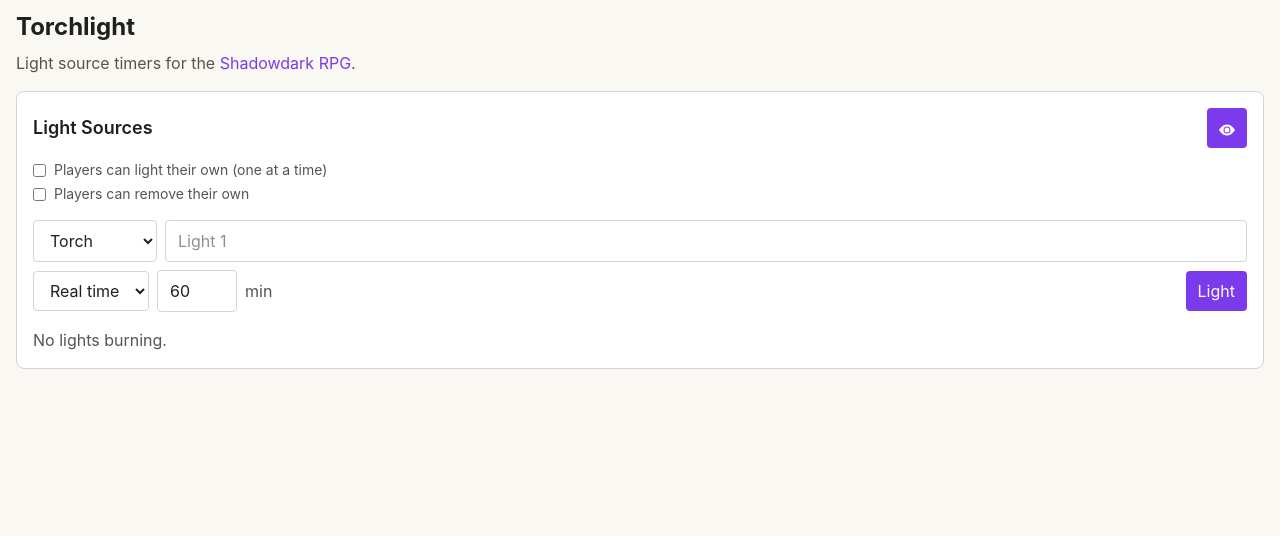
Test case: Main (Torchlight) › adds a named turn light with a custom count
The width and height of the screenshot is (1280, 536).
Type "Lantern" into the field named "Light name" at (706, 241), box x1=165 y1=220 x2=1247 y2=262
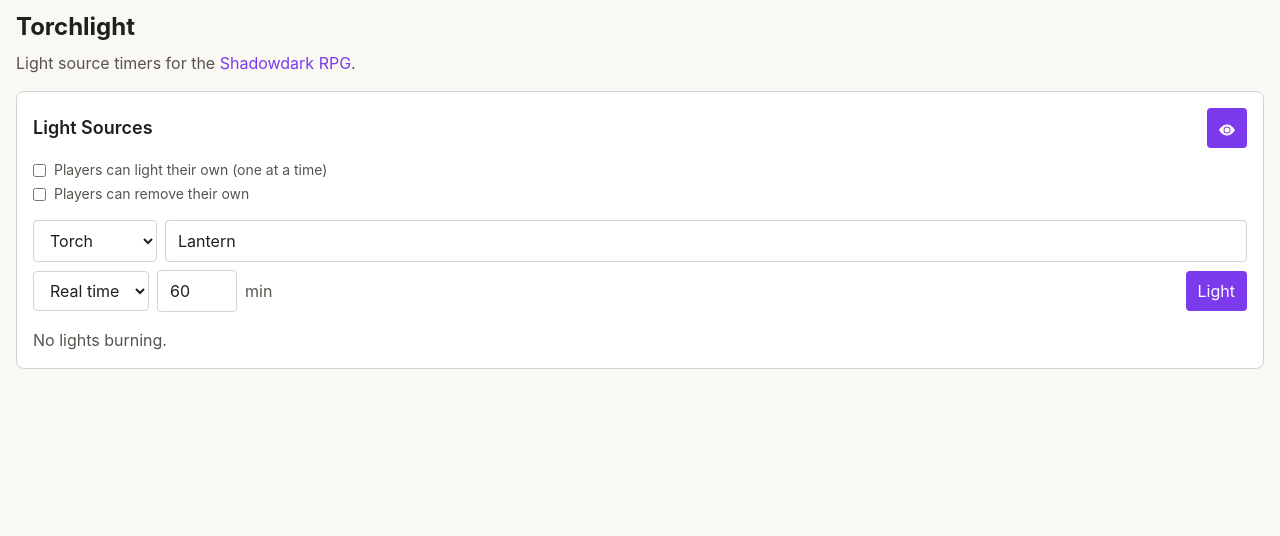
Select "Turns" in the dropdown named "Light type" at (91, 291), box x1=33 y1=271 x2=149 y2=311
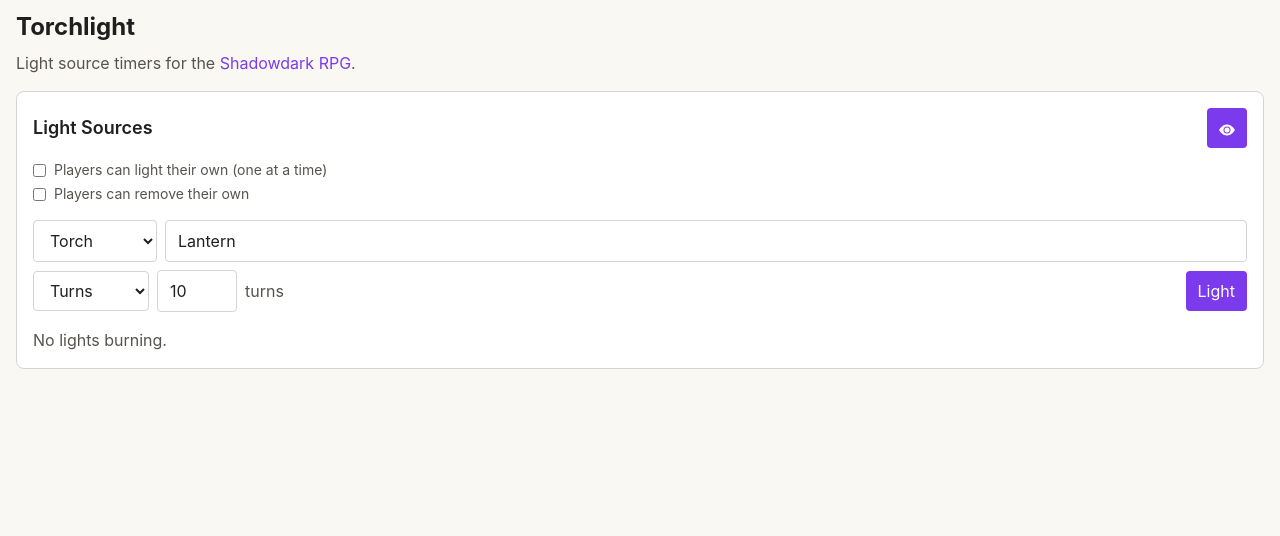
Replace the text in the number field named "Turns" with "6" at (197, 291), box x1=157 y1=270 x2=237 y2=312
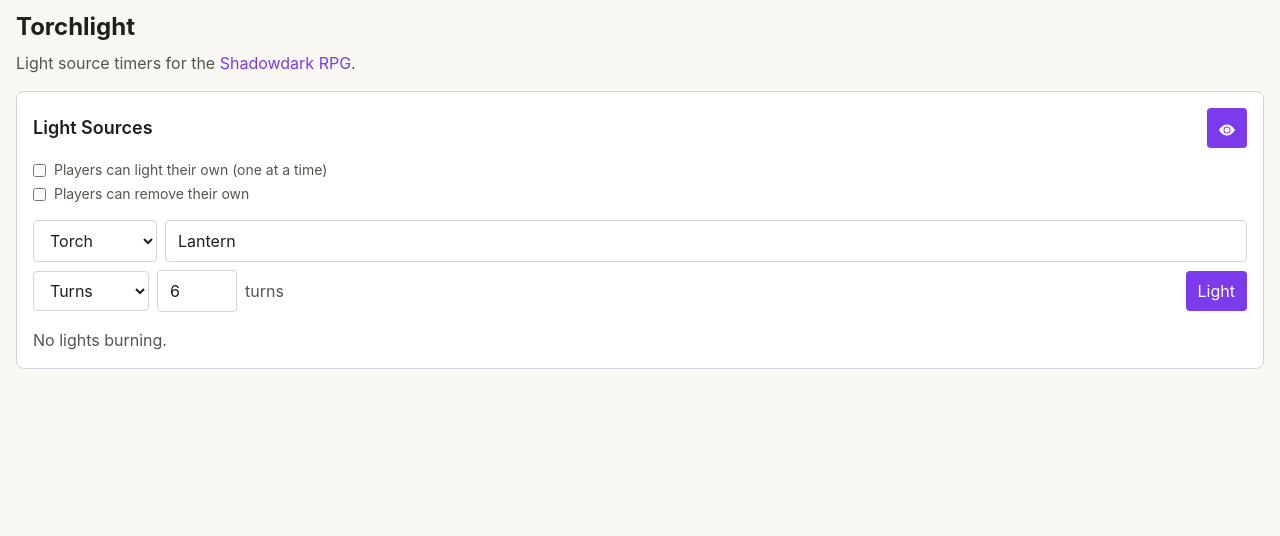
Click the button "Light" at (1216, 291), box x1=1186 y1=271 x2=1247 y2=311
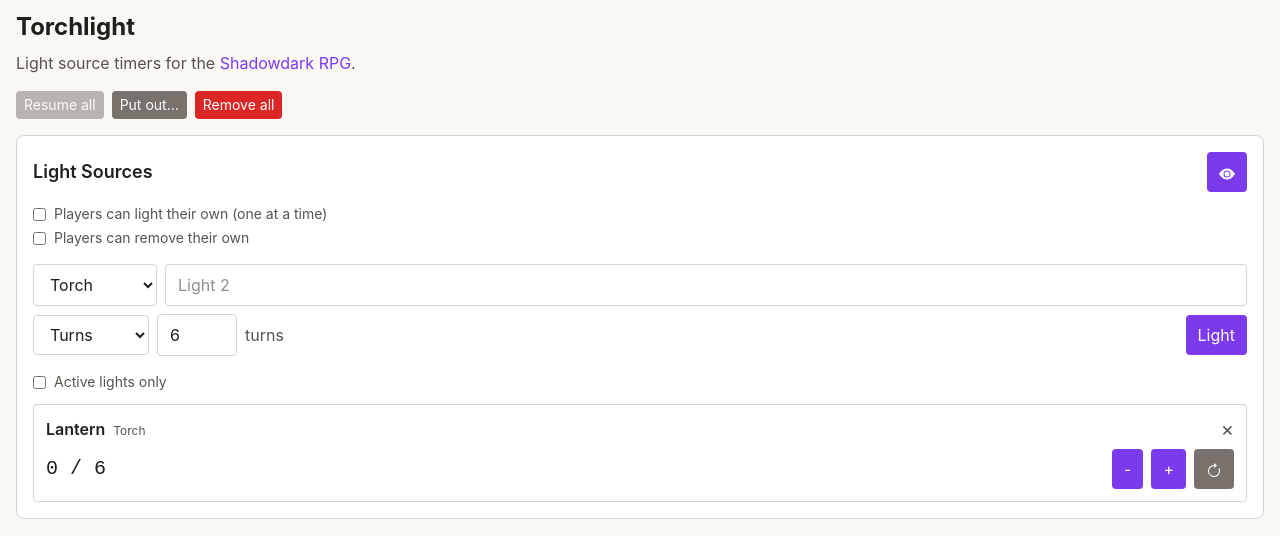
Check: the text "0 / 6" is shown, box x1=46 y1=455 x2=106 y2=483
Click the button titled "Burn a turn" at (1169, 469), box x1=1151 y1=449 x2=1186 y2=489
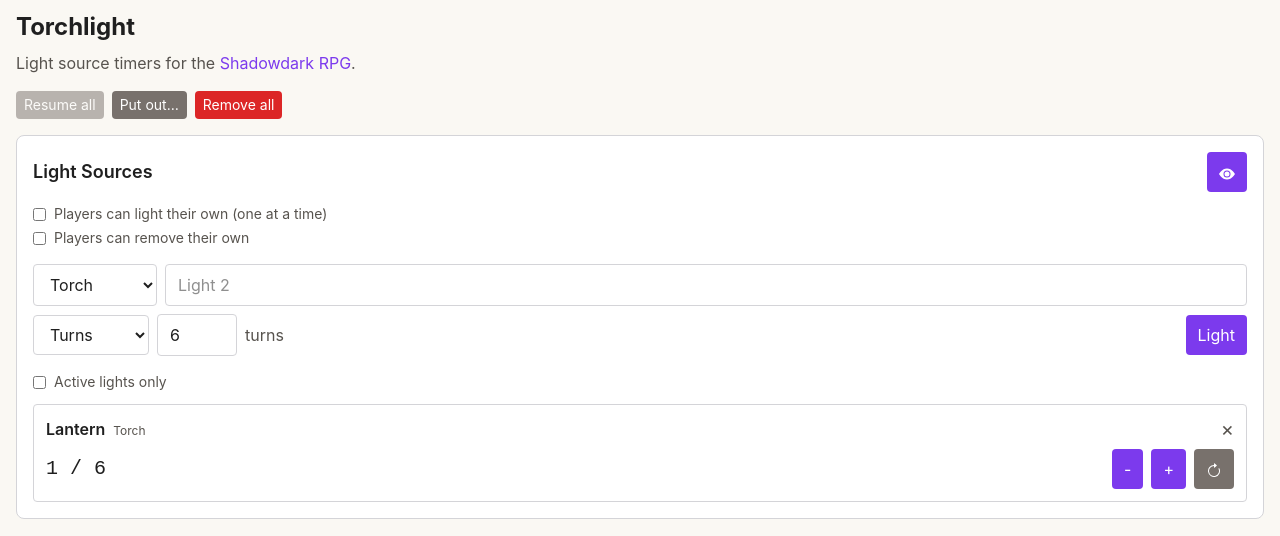
Check: the text "1 / 6" is shown, box x1=46 y1=455 x2=106 y2=483
